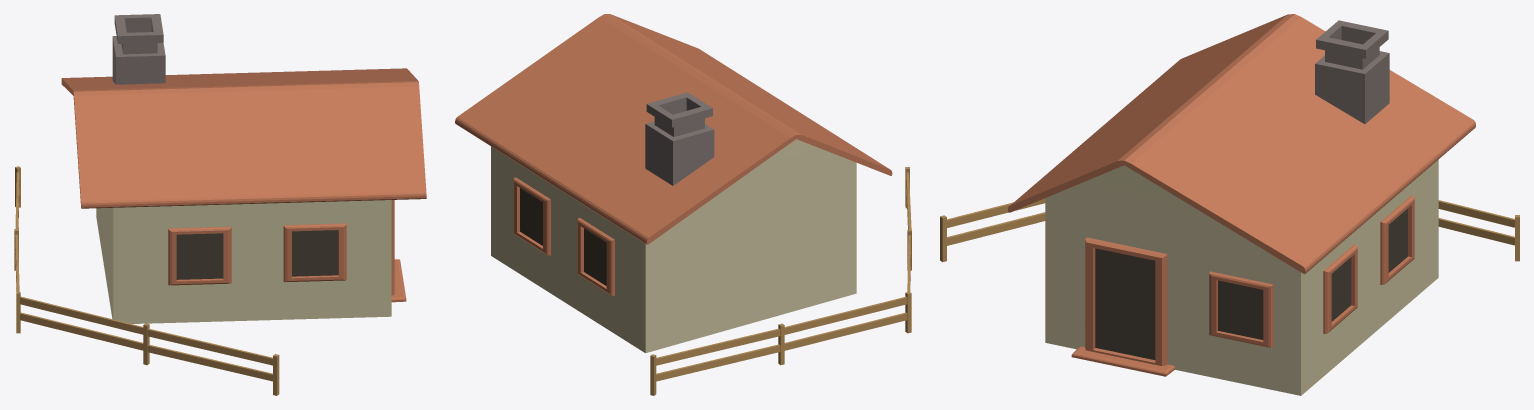
File: house.glb
3 views of the same model, side by side, from view 1: azimuth 30°, elevation 25°; view 2: azimuth 150°, elevation 25°; view 3: azimuth 270°, elevation 25° (orthographic). The views are drawn at different scales.
Parts seen in each view (by area): view 1: Cube.093_Material.001_0, Cube.095_Material.001_0; view 2: Cube.093_Material.001_0, Cube.095_Material.001_0; view 3: Cube.093_Material.001_0, Cube.095_Material.001_0.
Part boxes in pixels (left/top/right/bottom): Cube.093_Material.001_0: left=61, top=14, right=426, bottom=323; Cube.095_Material.001_0: left=14, top=166, right=279, bottom=395; Cube.093_Material.001_0: left=455, top=14, right=892, bottom=353; Cube.095_Material.001_0: left=650, top=167, right=911, bottom=395; Cube.093_Material.001_0: left=1008, top=14, right=1475, bottom=395; Cube.095_Material.001_0: left=940, top=198, right=1519, bottom=262.
Bounding box in the file's own units: 1.42 × 0.7175 × 1.5.
1 material, 1 textured.
